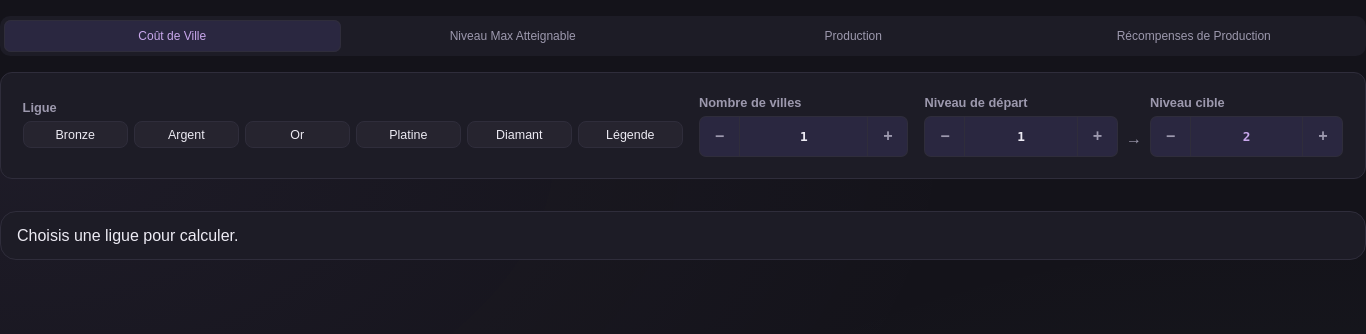
it: CityCalculators › renders the Armée and Or blocks as two separate cards, not a mixed form
Click the tab "Récompenses de Production": click(1194, 36) [1026,20,1362,52]
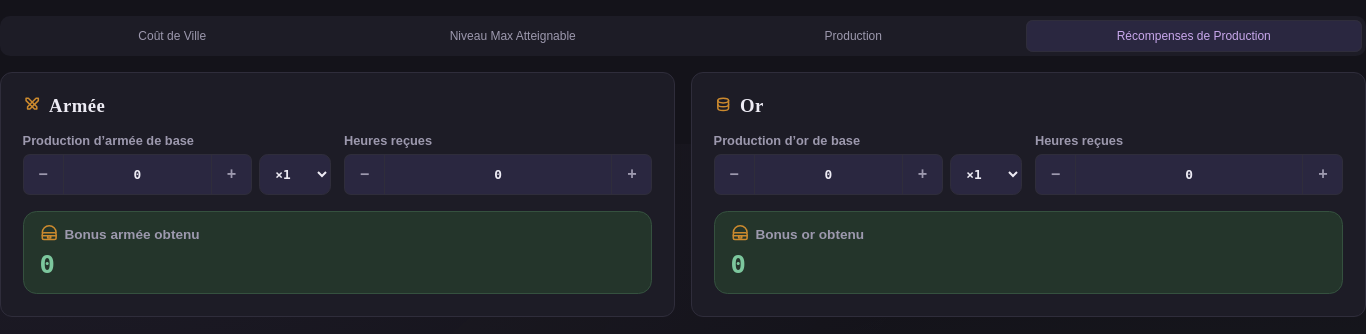
Expected: the number of elements with class "tool-reward-card" is 2, [0,72,675,316]; [691,72,1365,316]
Expected: the heading "Armée" is shown, [23,95,105,116]
Expected: the heading "Or" is shown, [714,95,764,116]
